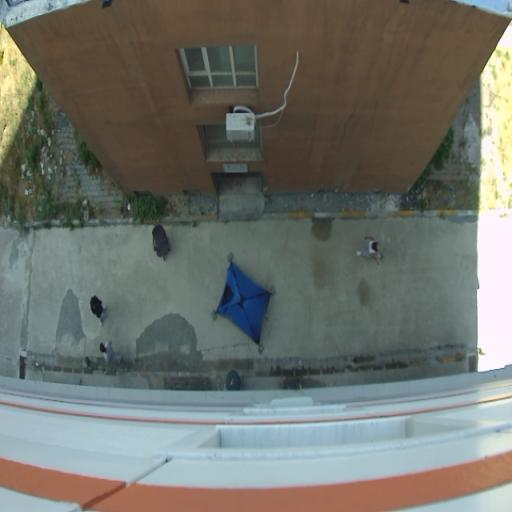tent: (208, 246, 280, 356)
